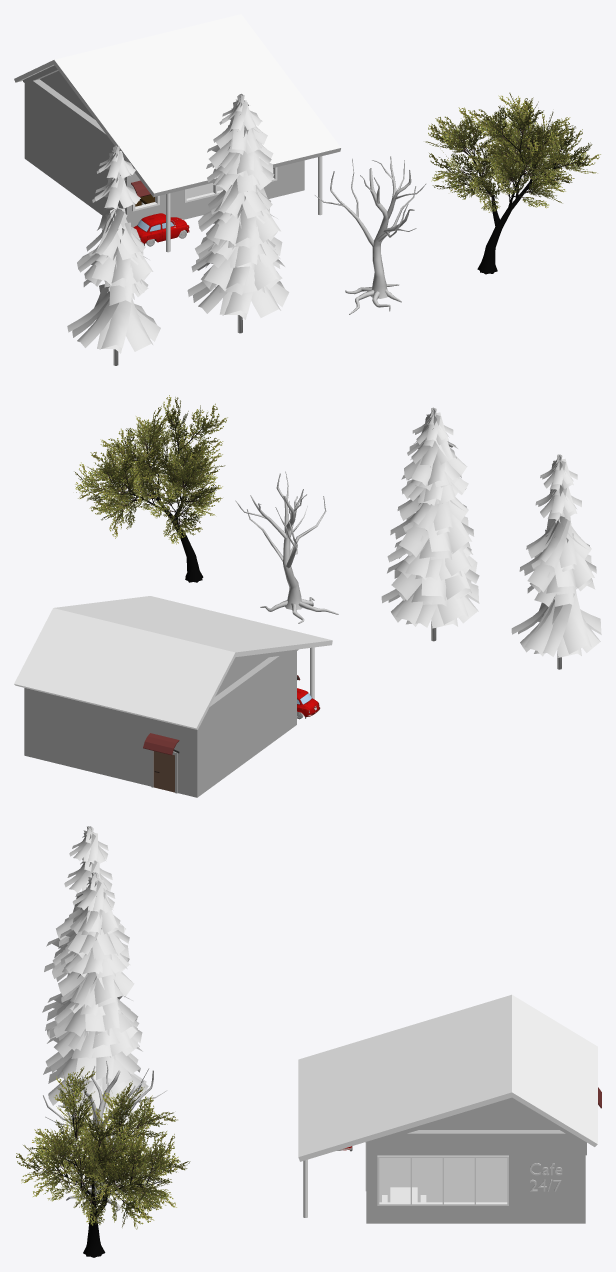
3 renders of one model, top to bottom at view 1: azimuth 30°, elevation 25°; view 2: azimuth 150°, elevation 25°; view 3: azimuth 270°, elevation 25°, orthographic. The views are drawn at different scales.
Parts seen in each view (by area): view 1: Cube.005, Cylinder.004, Spline Branch E001, Cylinder.005, Cube.003, tree, Plane.002, car_body, Cylinder.002, Cube.011; view 2: Cube.005, Cube.003, Cylinder.004, Spline Branch E001, Cylinder.005, tree, Plane.002, Cube.010, Cylinder.001; view 3: Cube.005, Cylinder.004, Spline Branch E001, Cube.003, Plane.001, Plane.002, Cylinder.005, tree, Cube.011.
Boxes of the visible parts, <box> form: Cube.005: <box>14,14,340,197</box>; Cylinder.004: <box>187,93,289,333</box>; Spline Branch E001: <box>425,92,600,274</box>; Cylinder.005: <box>67,145,160,365</box>; Cube.003: <box>24,83,304,227</box>; tree: <box>314,156,426,314</box>; Plane.002: <box>23,65,114,147</box>; car_body: <box>133,213,189,245</box>; Cylinder.002: <box>166,156,322,252</box>; Cube.011: <box>132,167,277,211</box>; Cube.005: <box>14,596,332,729</box>; Cube.003: <box>24,651,296,797</box>; Cylinder.004: <box>381,407,479,641</box>; Spline Branch E001: <box>74,395,227,582</box>; Cylinder.005: <box>511,454,601,669</box>; tree: <box>235,471,338,623</box>; Plane.002: <box>203,649,298,719</box>; Cube.010: <box>153,751,174,792</box>; Cylinder.001: <box>143,733,179,755</box>; Cube.005: <box>298,994,597,1161</box>; Cylinder.004: <box>43,872,148,1127</box>; Spline Branch E001: <box>16,1066,190,1257</box>; Cube.003: <box>366,1142,585,1223</box>; Plane.001: <box>379,1158,507,1202</box>; Plane.002: <box>365,1097,585,1142</box>; Cylinder.005: <box>42,826,139,1038</box>; tree: <box>43,1061,167,1215</box>; Cube.011: <box>365,1142,508,1205</box>.
Size of what is drawn, in the model's own units: 3495 by 1567 by 3219.
